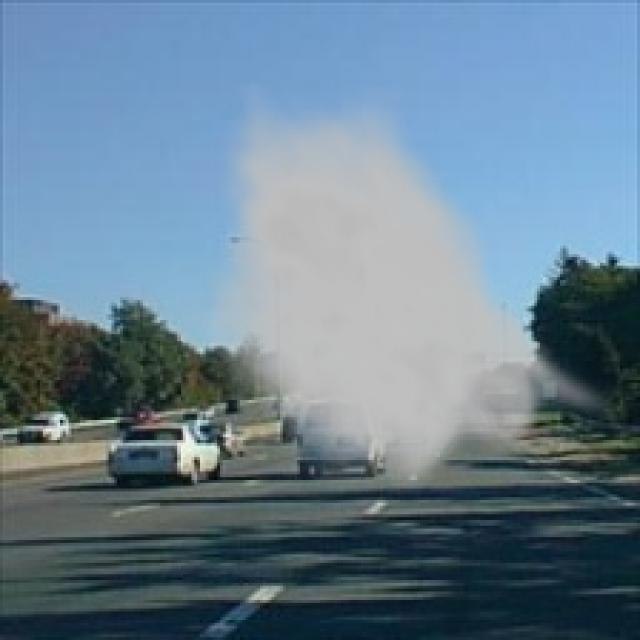smoke: (203, 80, 623, 500)
